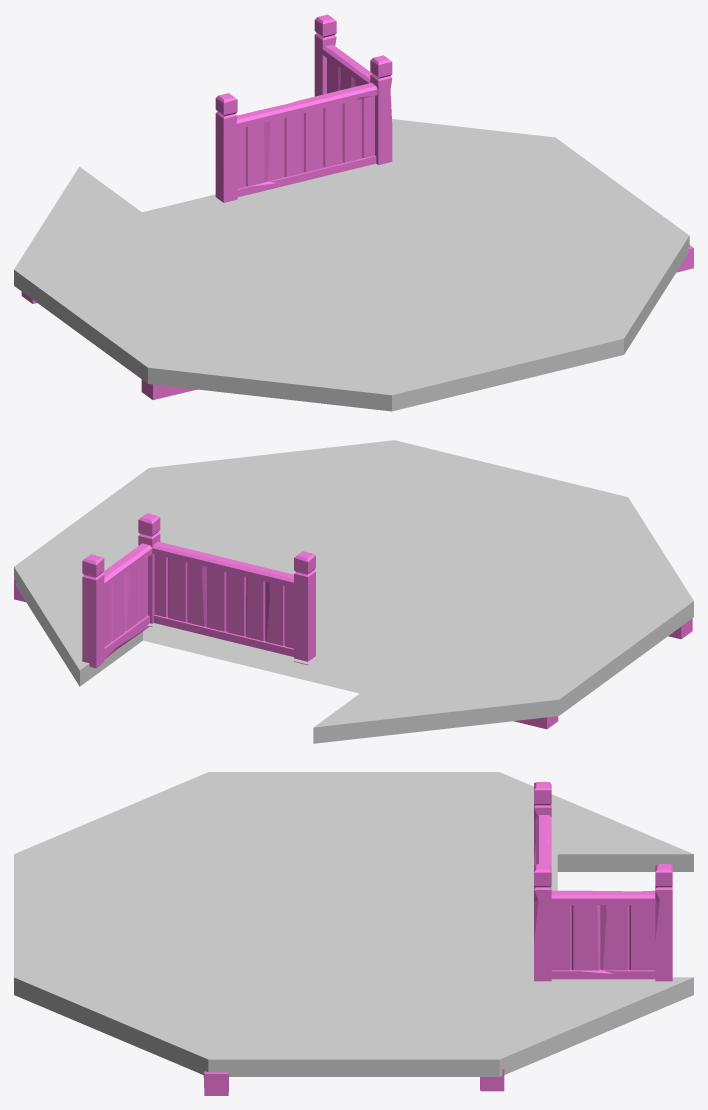
The model's file is SM_Tower_Round_7m_Floor_Door_Fantasy_Base.fbx.
The picture shows the model from 3 angles, top to bottom: view 1: azimuth 30°, elevation 25°; view 2: azimuth 150°, elevation 25°; view 3: azimuth 270°, elevation 25°; orthographic projection. The views are drawn at different scales.
Visible parts, largest first — view 1: SM_Tower_Round_7m_Floor_Door_Fantasy_Base; view 2: SM_Tower_Round_7m_Floor_Door_Fantasy_Base; view 3: SM_Tower_Round_7m_Floor_Door_Fantasy_Base.
Part boxes in pixels (x1,y1,x2,y2): SM_Tower_Round_7m_Floor_Door_Fantasy_Base: (14, 14, 693, 411); SM_Tower_Round_7m_Floor_Door_Fantasy_Base: (14, 440, 693, 743); SM_Tower_Round_7m_Floor_Door_Fantasy_Base: (14, 772, 693, 1095).
Size of the model in its own units: 7.04 by 1.66 by 7.
